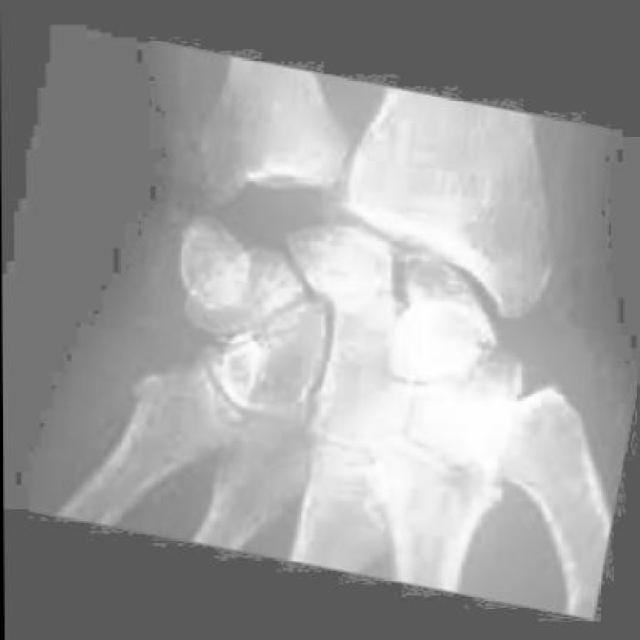Fracture: (414, 306, 542, 448)
